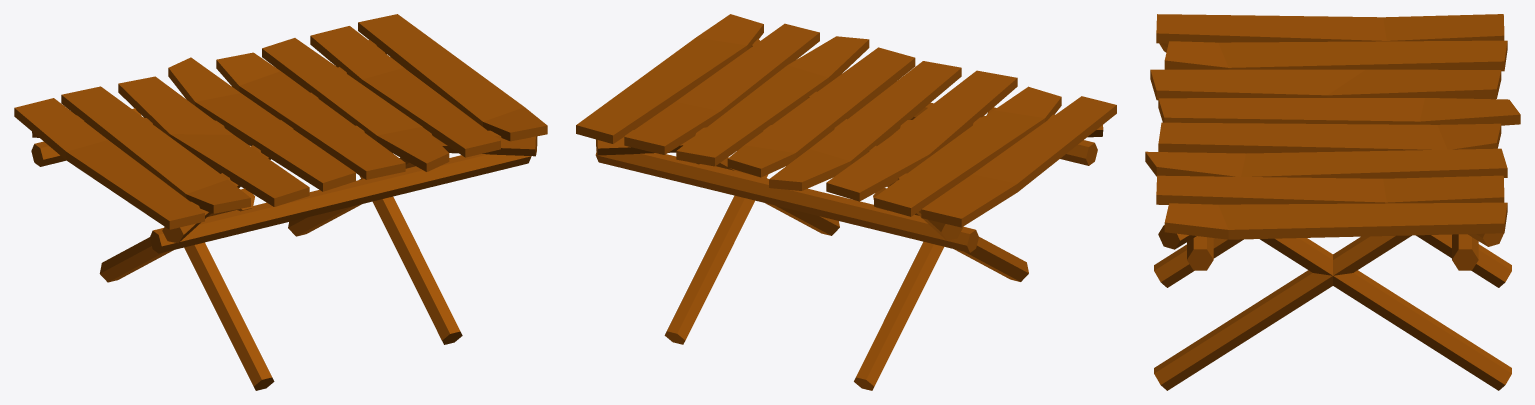
Rendered from GEO_dock_02.fbx.
3 views of the same model, side by side, from view 1: azimuth 30°, elevation 25°; view 2: azimuth 150°, elevation 25°; view 3: azimuth 270°, elevation 25° (orthographic). The views are drawn at different scales.
Visible parts, largest first — view 1: dock_02; view 2: dock_02; view 3: dock_02.
Part boxes in pixels (x1,y1,x2,y2): dock_02: (14,14,547,390); dock_02: (576,14,1116,390); dock_02: (1145,14,1520,390).
Size of the model in its own units: 464 by 223 by 346.
